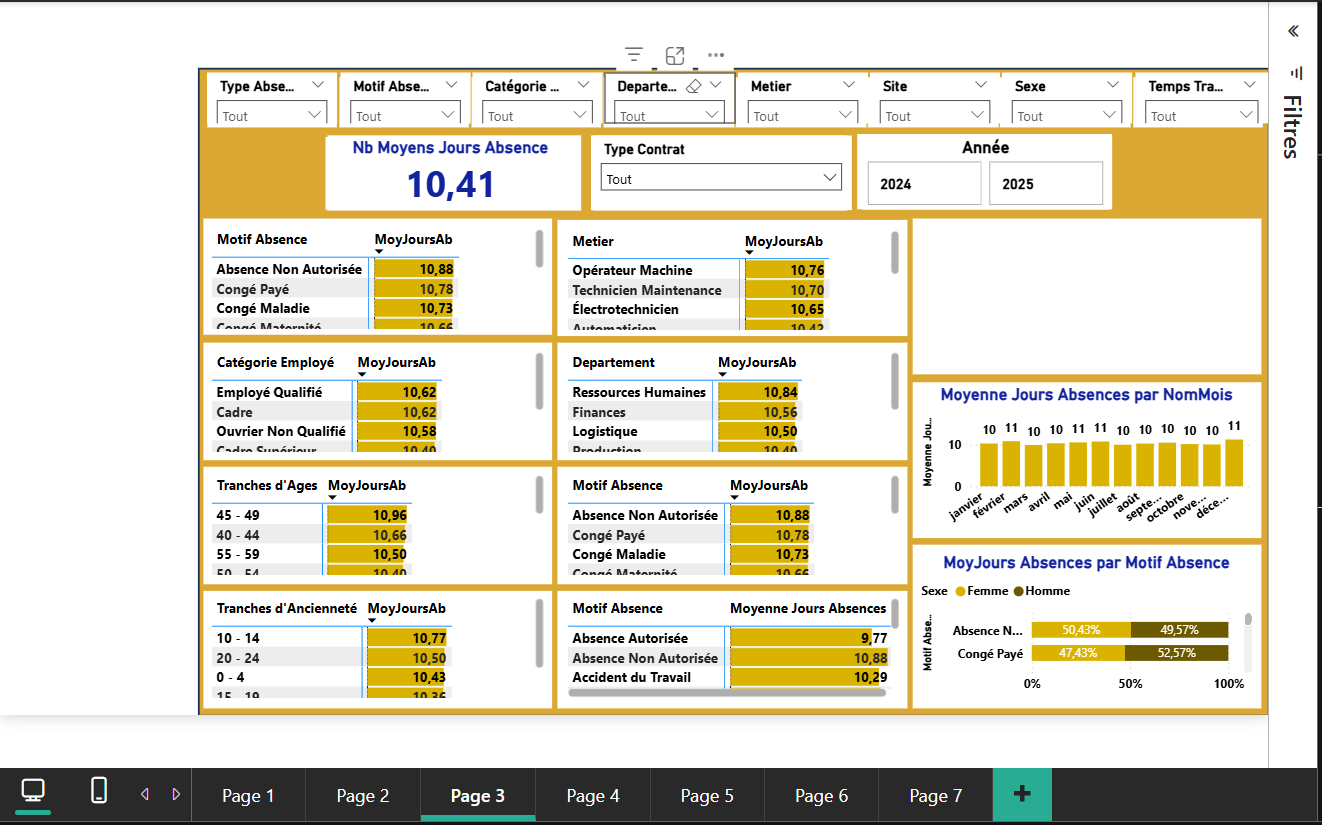

What the dashboard file says about the page in this screenshot:
{"tool":"powerbi","page":{"name":"Page 3","canvas":[1280,720],"ordinal":2},"visuals":[{"type":"pivotTable","fields":{"Rows":["Motif Absence.Motif Absence"],"Values":["Mesures.Moyenne Jours Absences"]},"box":[209.3,223.7,345.1,110.2],"z":0},{"type":"pivotTable","fields":{"Values":["Mesures.Moyenne Jours Absences"],"Rows":["Employé.Metier"]},"box":[567.2,225.3,345.1,110.2],"z":1000},{"type":"pivotTable","fields":{"Values":["Mesures.Moyenne Jours Absences"],"Rows":["Employé.Catégorie Employé"]},"box":[209.3,348.3,345.1,110.2],"z":2000},{"type":"pivotTable","fields":{"Values":["Mesures.Moyenne Jours Absences"],"Rows":["Employé.Departement"]},"box":[567.2,348.3,345.1,110.2],"z":3000},{"type":"pivotTable","fields":{"Values":["Mesures.Moyenne Jours Absences"],"Rows":["Employé.Tranches d'Ages"]},"box":[209.3,472.9,345.1,110.2],"z":4000},{"type":"pivotTable","fields":{"Rows":["Motif Absence.Motif Absence"],"Values":["Mesures.Moyenne Jours Absences"]},"box":[567.2,472.9,345.1,110.2],"z":5000},{"type":"pivotTable","fields":{"Values":["Mesures.Moyenne Jours Absences"],"Rows":["Employé.Tranches d'Ancienneté"]},"box":[209.3,595.9,345.1,110.2],"z":6000},{"type":"pivotTable","fields":{"Rows":["Motif Absence.Motif Absence"],"Values":["Mesures.Moyenne Jours Absences"]},"box":[567.2,595.9,345.1,110.2],"z":7000},{"type":"hundredPercentStackedBarChart","title":"MoyJours Absences par Motif Absence ","fields":{"Category":["Motif Absence.Motif Absence"],"Y":["Mesures.Moyenne Jours Absences"],"Series":["Employé.Sexe"]},"box":[925.1,556,343.5,150.2],"z":8000},{"type":"clusteredColumnChart","fields":{"Category":["TableDates.NomMois"],"Y":["Mesures.Moyenne Jours Absences"]},"box":[925.1,386.6,343.5,153.4],"z":9000},{"type":"advancedSlicerVisual","fields":{"Values":["TableDates.Année"]},"box":[870.7,135.8,249.2,73.5],"z":10000},{"type":"card","title":"Nb Moyens Jours Absence","fields":{"Values":["Mesures.Moyenne Jours Absences"]},"box":[329.1,135.8,252.4,73.5],"z":11000},{"type":"slicer","fields":{"Values":["Motif Absence.Type Absence"]},"box":[209.3,71.9,131,51.1],"z":12000},{"type":"slicer","fields":{"Values":["Motif Absence.Motif Absence"]},"box":[343,71.9,131,51.1],"z":13000},{"type":"slicer","fields":{"Values":["Employé.Catégorie Employé"]},"box":[476.8,71.9,131,51.1],"z":14000},{"type":"slicer","fields":{"Values":["Employé.Departement"]},"box":[610.5,71.9,131,51.1],"z":15000},{"type":"slicer","fields":{"Values":["Employé.Metier"]},"box":[744.3,71.9,131,51.1],"z":16000},{"type":"slicer","fields":{"Values":["Employé.Site"]},"box":[878,71.9,131,51.1],"z":17000},{"type":"slicer","fields":{"Values":["Employé.Sexe"]},"box":[1011.8,71.9,131,51.1],"z":18000},{"type":"slicer","fields":{"Values":["Employé.Temps Travail"]},"box":[1145.5,71.9,134.2,51.1],"z":19000},{"type":"slicer","fields":{"Values":["Employé.Type Contrat"]},"box":[595.9,134.2,263.6,75.1],"z":20000}]}

Visuals, with their boxes on the page's 1280x720 design canvas (x1, y1, x2, y2). These are canvas units, not pixel positions in the 1322x825 screenshot, which may show the page scaled, cropped or inside an application window:
pivotTable - Motif Absence.Motif Absence x Mesures.Moyenne Jours Absences: 209,224,554,334
pivotTable - Mesures.Moyenne Jours Absences x Employé.Metier: 567,225,912,336
pivotTable - Mesures.Moyenne Jours Absences x Employé.Catégorie Employé: 209,348,554,458
pivotTable - Mesures.Moyenne Jours Absences x Employé.Departement: 567,348,912,458
pivotTable - Mesures.Moyenne Jours Absences x Employé.Tranches d'Ages: 209,473,554,583
pivotTable - Motif Absence.Motif Absence x Mesures.Moyenne Jours Absences: 567,473,912,583
pivotTable - Mesures.Moyenne Jours Absences x Employé.Tranches d'Ancienneté: 209,596,554,706
pivotTable - Motif Absence.Motif Absence x Mesures.Moyenne Jours Absences: 567,596,912,706
"MoyJours Absences par Motif Absence " hundredPercentStackedBarChart: 925,556,1269,706
clusteredColumnChart - TableDates.NomMois x Mesures.Moyenne Jours Absences: 925,387,1269,540
advancedSlicerVisual - TableDates.Année: 871,136,1120,209
"Nb Moyens Jours Absence" card: 329,136,582,209
slicer - Motif Absence.Type Absence: 209,72,340,123
slicer - Motif Absence.Motif Absence: 343,72,474,123
slicer - Employé.Catégorie Employé: 477,72,608,123
slicer - Employé.Departement: 610,72,742,123
slicer - Employé.Metier: 744,72,875,123
slicer - Employé.Site: 878,72,1009,123
slicer - Employé.Sexe: 1012,72,1143,123
slicer - Employé.Temps Travail: 1146,72,1280,123
slicer - Employé.Type Contrat: 596,134,860,209
